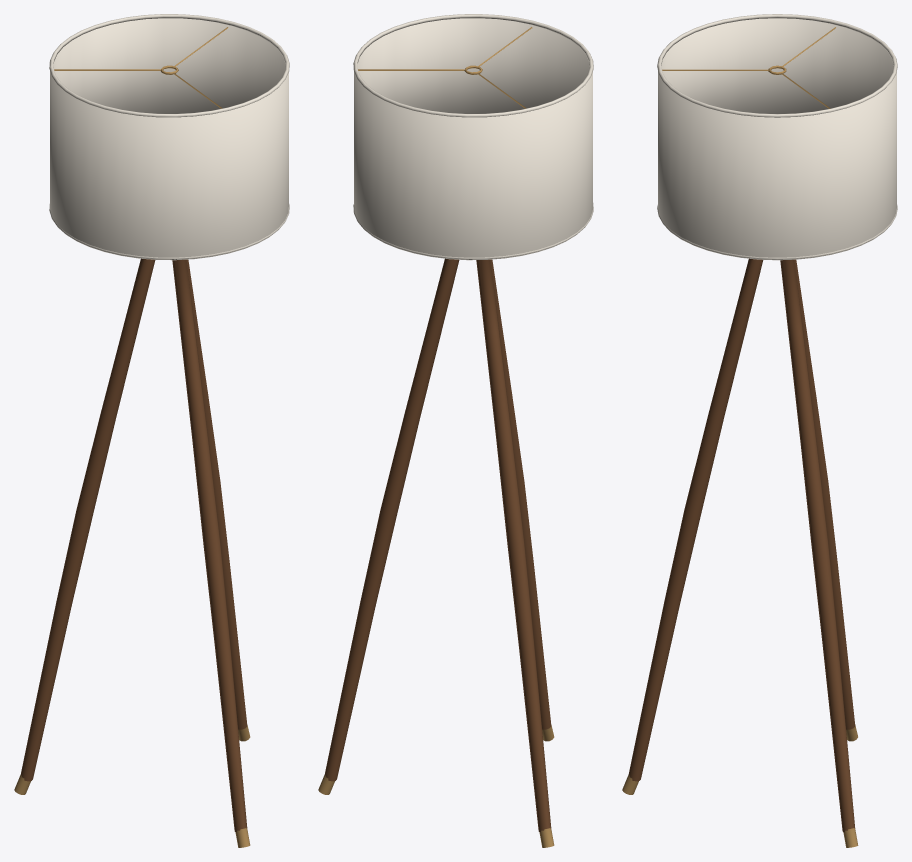
The model's file is lampFloorTripod.glb.
3 views of the same model, side by side, from view 1: azimuth 30°, elevation 25°; view 2: azimuth 150°, elevation 25°; view 3: azimuth 270°, elevation 25° (orthographic).
Parts seen in each view (by area): view 1: lampFloorTripod; view 2: lampFloorTripod; view 3: lampFloorTripod.
Boxes of the visible parts, x1,y1,x2,y2 form: lampFloorTripod: (14, 14, 289, 847); lampFloorTripod: (318, 14, 593, 847); lampFloorTripod: (622, 14, 897, 847).
Bounding box in the file's own units: 0.5434 × 1.62 × 0.5532.
